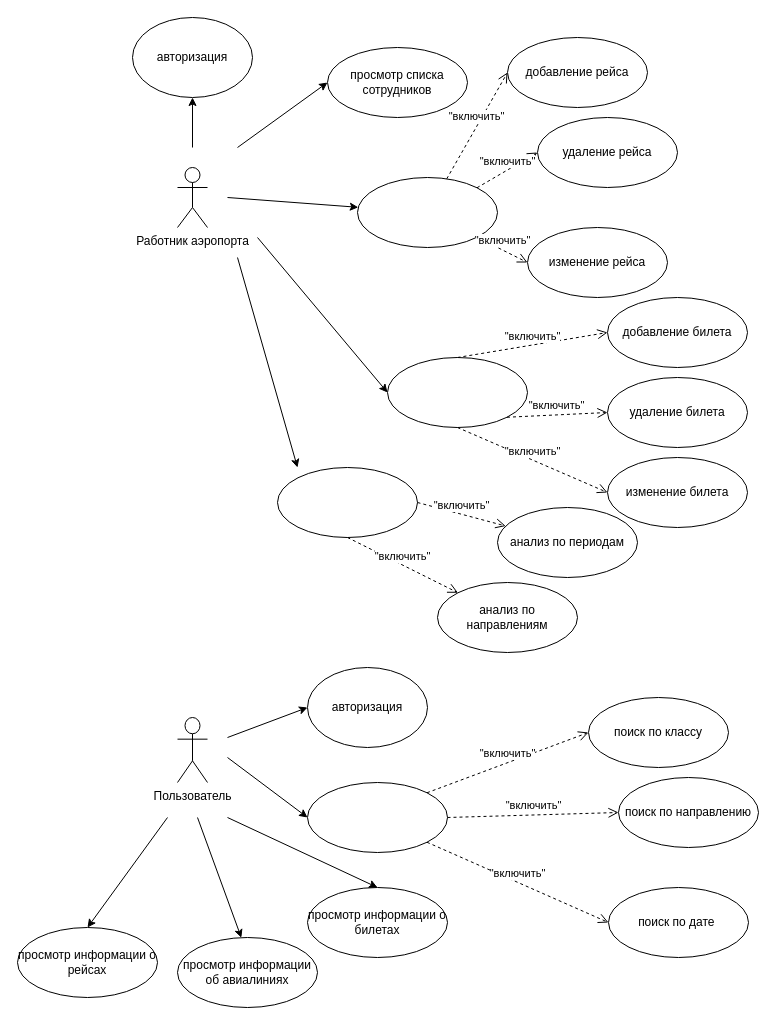
Some shapes in this 776 by 1025 pixel diagram are drawn without their labels. Here are the shapes that lost their labels. From the top down, the centre of each, then its label:
At [427,212]: "управление рейсами".
At [457,392]: "управление билетами".
At [347,502]: "анализ продаж билетов и направлений".
At [377,817]: "поиск билетов по критериям".
